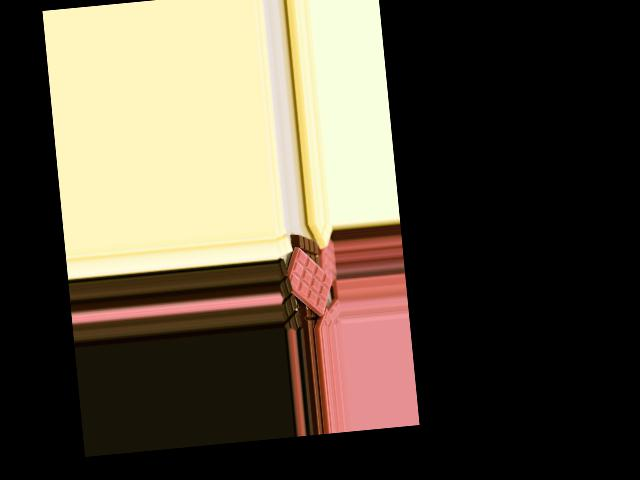chocolate: (275, 245, 337, 320)
